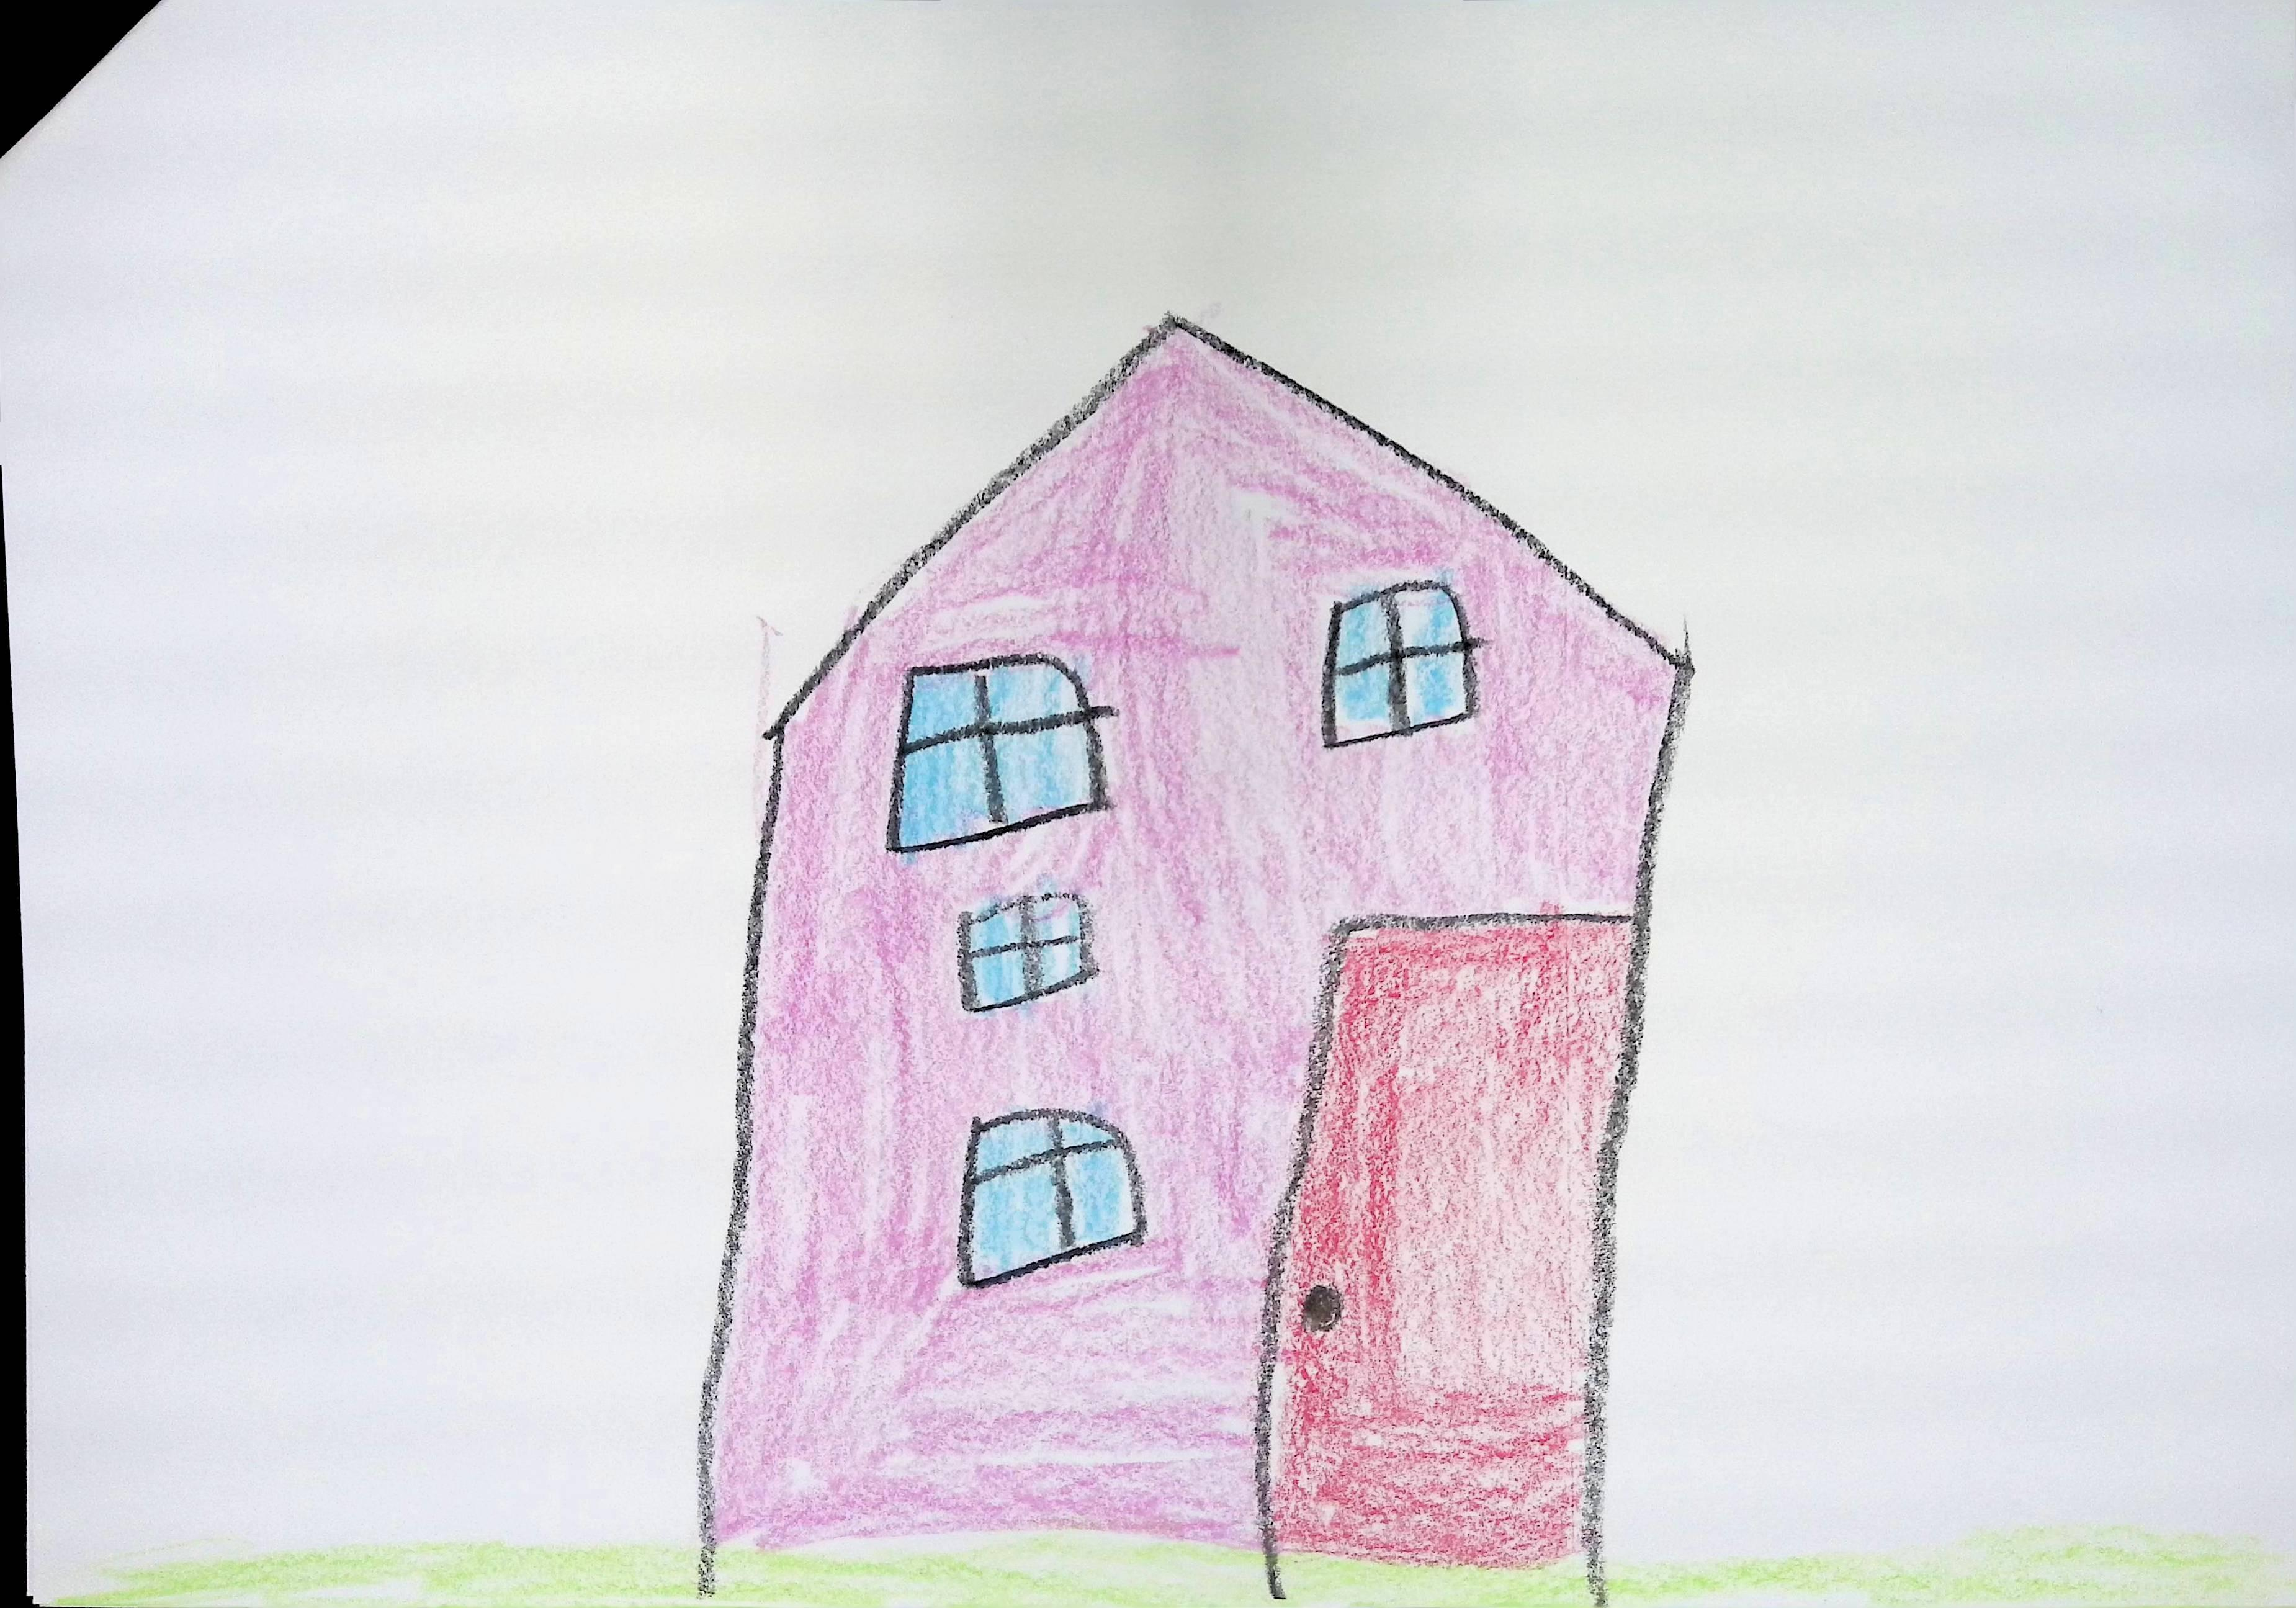door: (1261, 914, 1640, 1608)
house: (694, 316, 1692, 1606)
roof: (757, 303, 1706, 752)
wall: (694, 344, 1671, 1608)
window: (890, 656, 1113, 851), (960, 1111, 1145, 1287), (1326, 581, 1476, 745), (960, 893, 1094, 1010)
